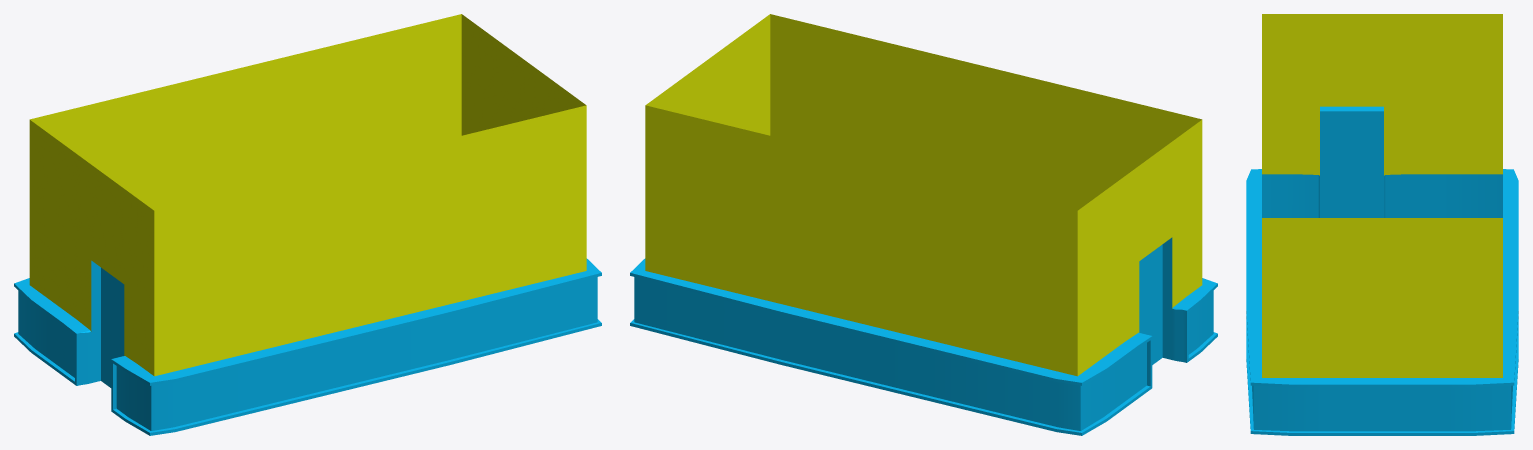
File: Bottom2.fbx
3 views of the same model, side by side, from view 1: azimuth 30°, elevation 25°; view 2: azimuth 150°, elevation 25°; view 3: azimuth 270°, elevation 25° (orthographic). The views are drawn at different scales.
Visible parts, largest first — view 1: B2; view 2: B2; view 3: B2.
Boxes of the visible parts, box(x1,y1,x2,y2) form: B2: box(14, 14, 601, 435); B2: box(630, 14, 1217, 435); B2: box(1246, 14, 1518, 435).
Size of the model in its own units: 8.51 by 3.87 by 4.51.
